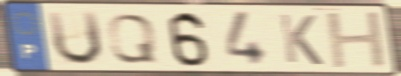4: (224, 8, 269, 70)
6: (164, 9, 211, 68)
H: (323, 10, 391, 71)
K: (276, 12, 326, 67)
Q: (105, 12, 160, 65)
U: (44, 9, 106, 68)
